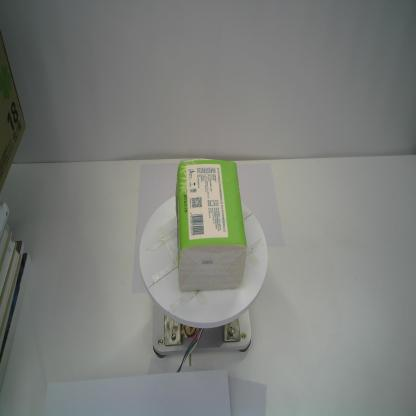Tissue: (174, 156, 248, 295)
